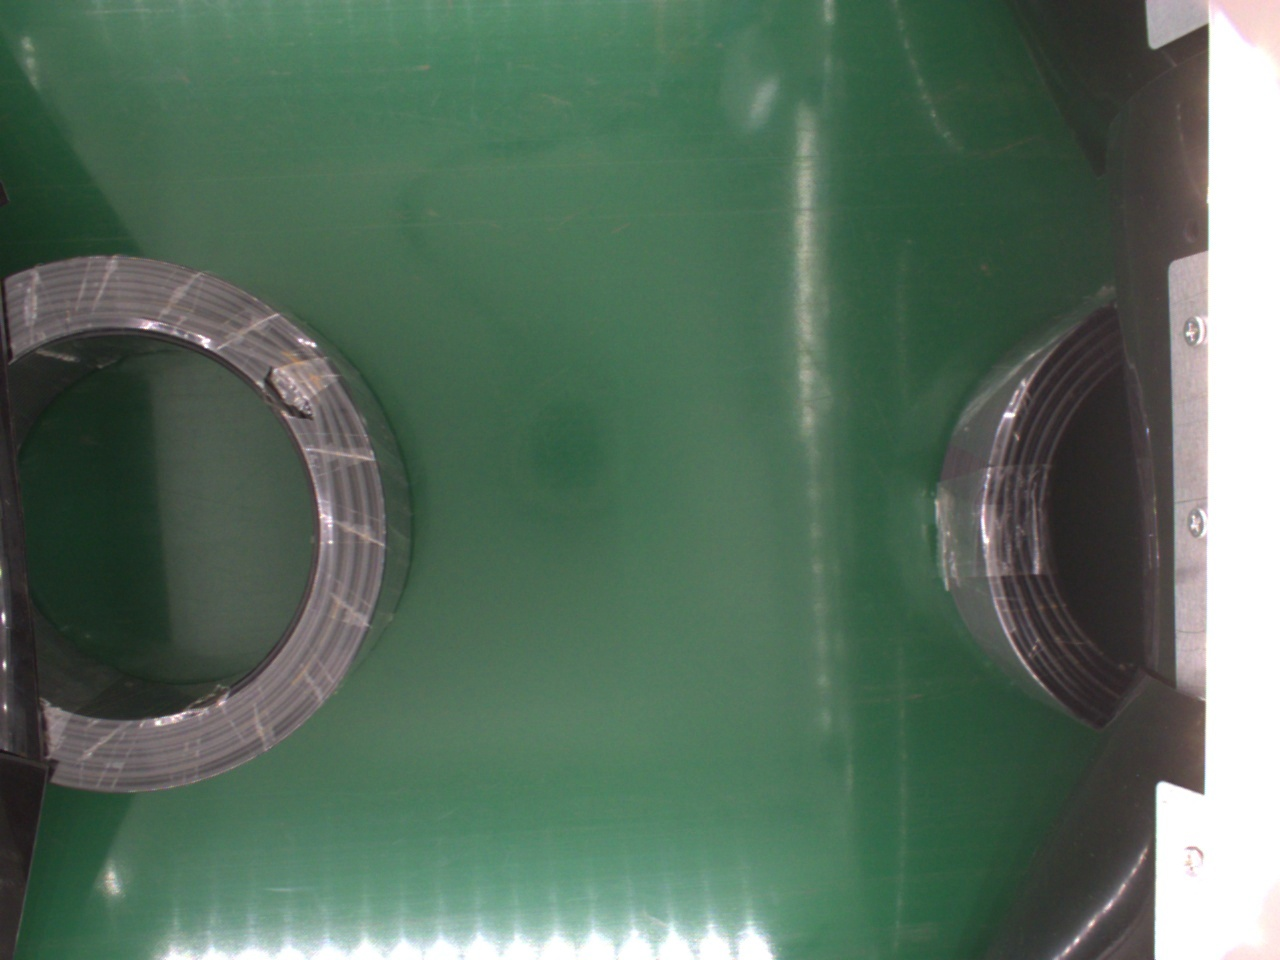black: (9, 252, 416, 797), (934, 301, 1148, 719)
